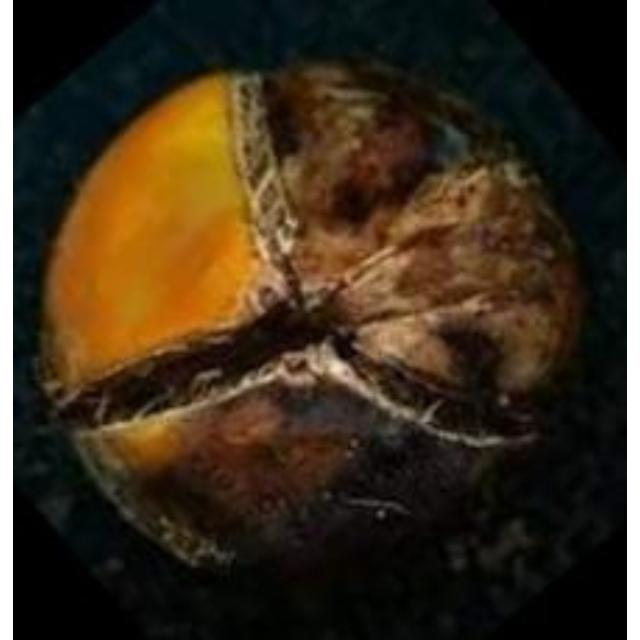damaged: (41, 31, 589, 579)
